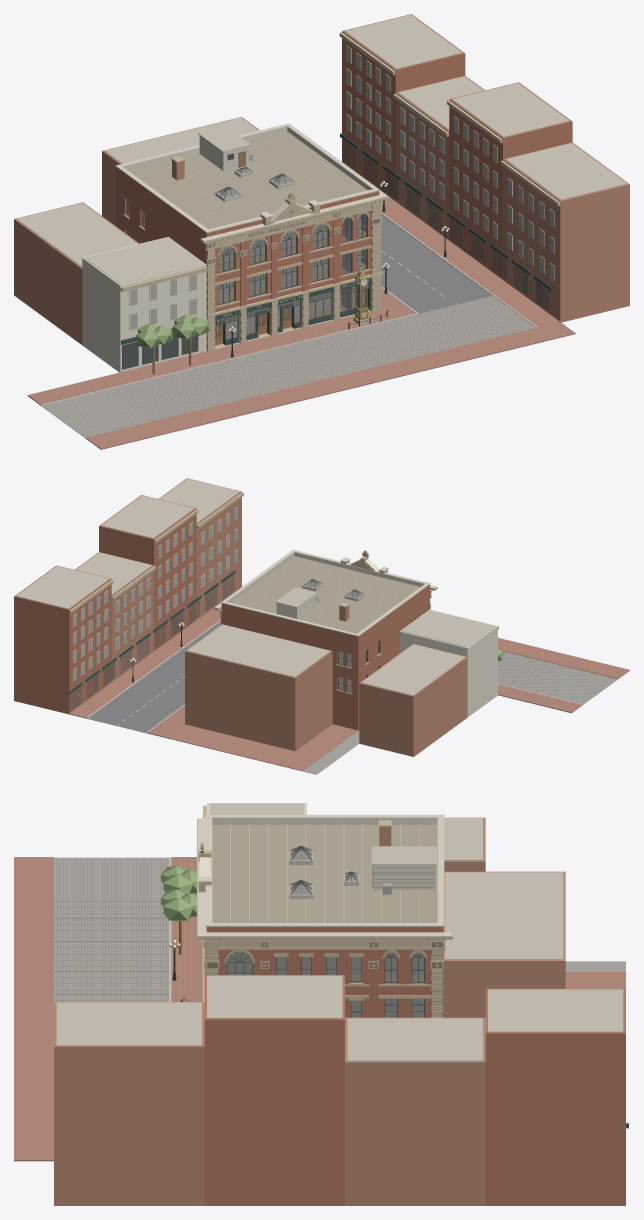
The model's file is clay-gastown-heritage-commercial-clay-v003.glb.
The picture shows the model from 3 angles, top to bottom: view 1: azimuth 30°, elevation 25°; view 2: azimuth 150°, elevation 25°; view 3: azimuth 270°, elevation 25°; orthographic projection. The views are drawn at different scales.
Visible parts, largest first — view 1: CLAY_BRICK2, CLAY_WALL, CLAY_MEMBRANE, CLAY_COBBLE, CLAY_PAVER, CLAY_GLASS, CLAY_TRIM, CLAY_ROOF, CLAY_STONE, CLAY_CREAM, CLAY_JOINT, CLAY_ASPHALT (+8 smaller); view 2: CLAY_BRICK2, CLAY_WALL, CLAY_MEMBRANE, CLAY_PAVER, CLAY_TRIM, CLAY_ROOF, CLAY_GLASS, CLAY_COBBLE, CLAY_ASPHALT, CLAY_CREAM, CLAY_STONE, CLAY_JOINT (+3 smaller); view 3: CLAY_WALL, CLAY_BRICK2, CLAY_MEMBRANE, CLAY_ROOF, CLAY_COBBLE, CLAY_PAVER, CLAY_TRIM, CLAY_JOINT, CLAY_STONE, CLAY_GLASS, CLAY_INTERIOR, CLAY_PLANTING (+2 smaller).
Boxes of the visible parts, x1,y1,x2,y2 form: CLAY_BRICK2: (14, 75, 629, 344); CLAY_WALL: (116, 14, 572, 350); CLAY_MEMBRANE: (17, 15, 626, 284); CLAY_COBBLE: (42, 296, 535, 438); CLAY_PAVER: (27, 197, 575, 449); CLAY_GLASS: (123, 47, 553, 368); CLAY_TRIM: (115, 45, 554, 330); CLAY_ROOF: (128, 131, 367, 229); CLAY_STONE: (120, 32, 560, 351); CLAY_CREAM: (82, 237, 206, 372); CLAY_JOINT: (33, 147, 533, 436); CLAY_ASPHALT: (364, 214, 492, 313); CLAY_BRICK2: (75, 478, 467, 756); CLAY_WALL: (14, 495, 429, 730); CLAY_MEMBRANE: (16, 478, 495, 695); CLAY_PAVER: (69, 608, 629, 771); CLAY_TRIM: (73, 506, 436, 726); CLAY_ROOF: (231, 556, 420, 633); CLAY_GLASS: (70, 507, 379, 710); CLAY_COBBLE: (303, 651, 617, 774); CLAY_ASPHALT: (88, 621, 220, 732); CLAY_CREAM: (399, 609, 497, 717); CLAY_STONE: (69, 492, 498, 694); CLAY_JOINT: (152, 617, 612, 734); CLAY_WALL: (204, 927, 625, 1205); CLAY_BRICK2: (54, 817, 565, 1205); CLAY_MEMBRANE: (56, 803, 623, 1061); CLAY_ROOF: (212, 824, 437, 922); CLAY_COBBLE: (54, 857, 625, 1001); CLAY_PAVER: (14, 857, 625, 1161); CLAY_TRIM: (198, 814, 629, 1122); CLAY_JOINT: (54, 858, 442, 1016); CLAY_STONE: (54, 805, 452, 1017); CLAY_GLASS: (227, 847, 424, 1017); CLAY_INTERIOR: (227, 951, 424, 1016); CLAY_PLANTING: (161, 866, 196, 921).
Bounding box in the file's own units: 82 × 20.56 × 61.4.
